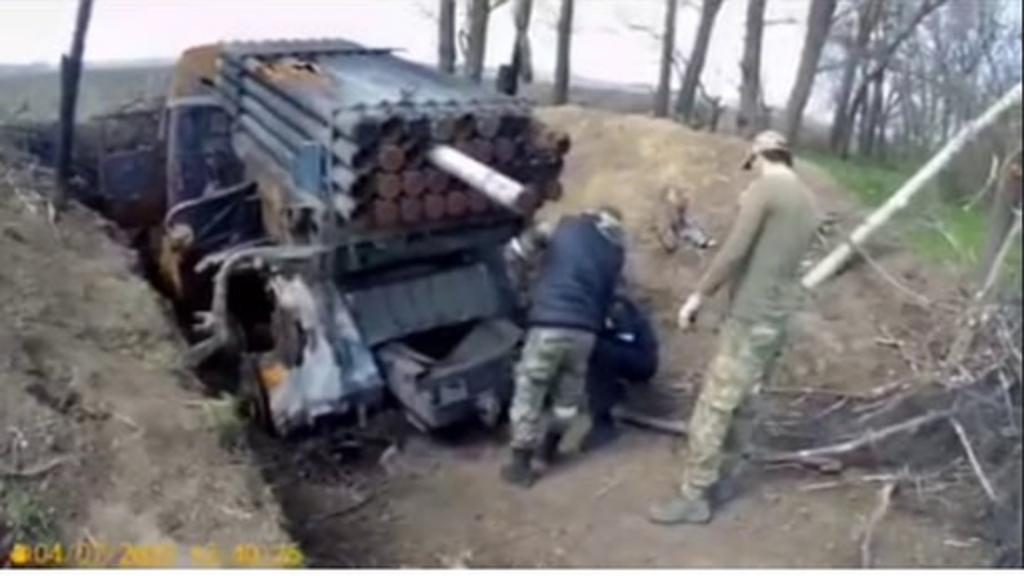MLRS: (96, 38, 574, 454)
